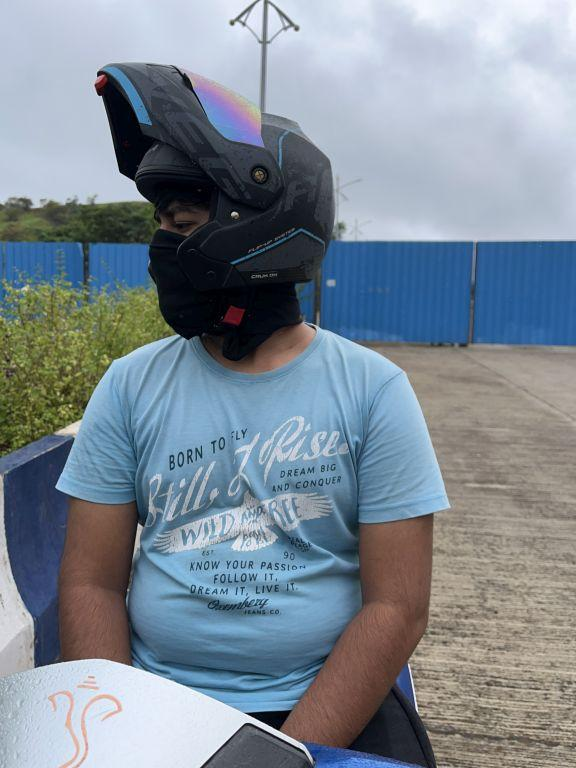helmet: (85, 54, 348, 358)
